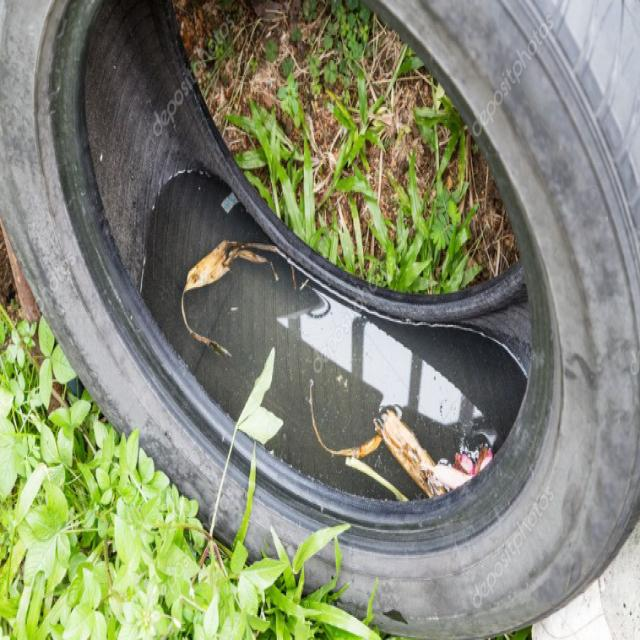Breeding Place: (137, 180, 536, 515)
